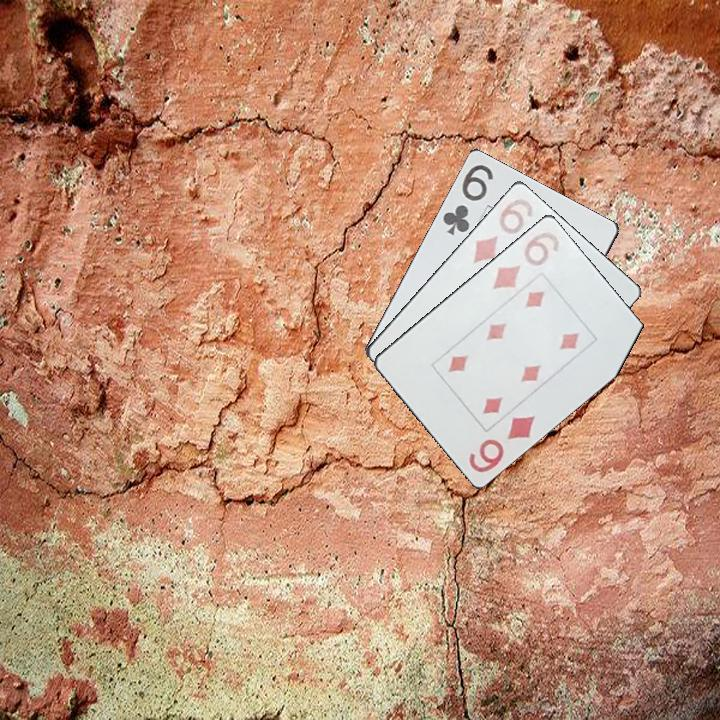6c: (439, 160, 496, 238)
6d: (470, 194, 536, 266), (465, 412, 538, 477), (489, 228, 562, 292)
